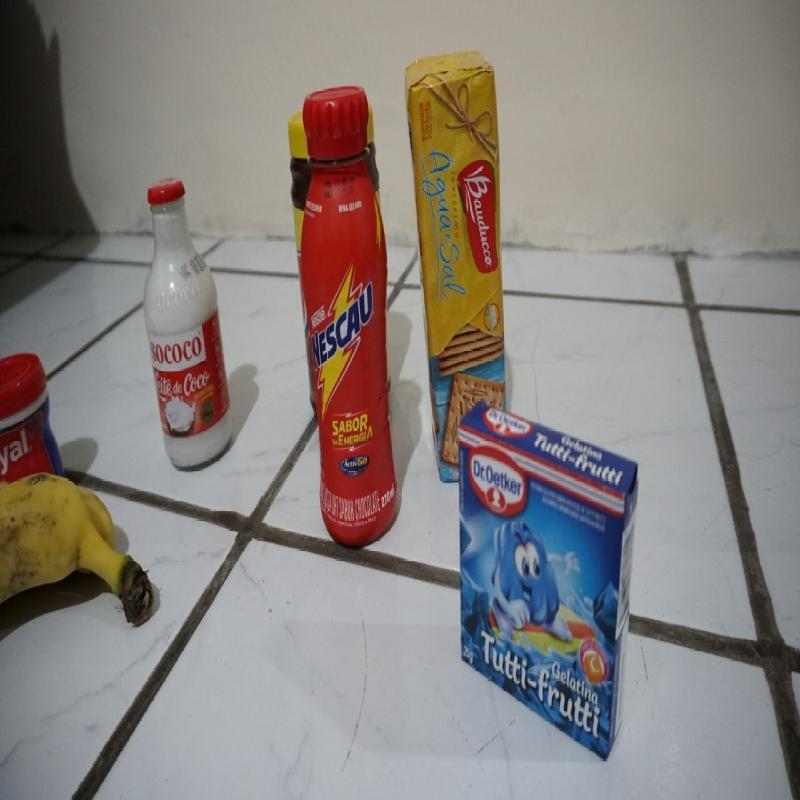Banana: (0, 471, 156, 634)
Chocolate Milk: (305, 93, 398, 510)
Chocolate Powder: (284, 116, 308, 226)
Coconut Milk: (142, 176, 237, 446)
Cracker: (407, 43, 507, 401)
Gelatine: (457, 398, 633, 764)
Yeast: (0, 352, 66, 477)
